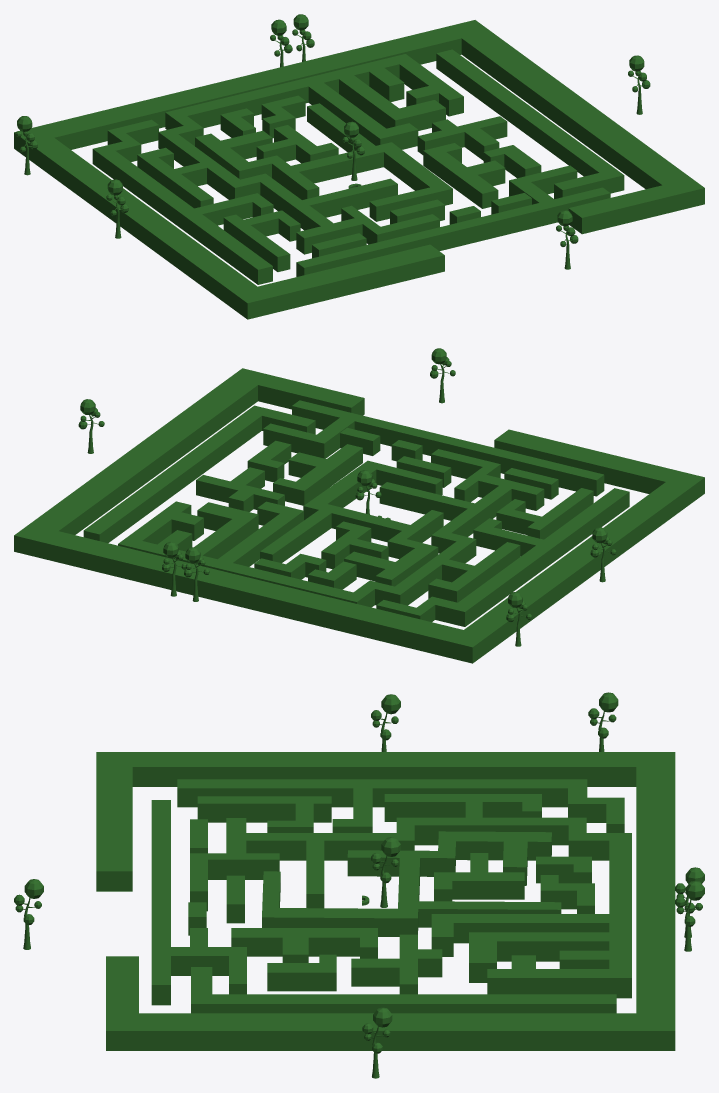
Rendered from maze__bench.glb.
The picture shows the model from 3 angles, top to bottom: view 1: azimuth 30°, elevation 25°; view 2: azimuth 150°, elevation 25°; view 3: azimuth 270°, elevation 25°; orthographic projection. The views are drawn at different scales.
Visible parts, largest first — view 1: Hedge_maze, tree2, tree1, tree3, tree6, tree, tree4, tree5; view 2: Hedge_maze, tree3, tree2, tree5, tree1, tree4, tree6, tree; view 3: Hedge_maze, tree3, tree4, tree2, tree, tree6, tree1.
Part boxes in pixels (x1,y1,x2,y2): Hedge_maze: (14,20,704,319); tree2: (556,210,578,269); tree1: (106,179,128,238); tree3: (628,55,650,114); tree6: (15,116,37,175); tree: (342,121,364,180); tree4: (292,14,314,61); tree5: (270,19,292,67); Hedge_maze: (14,368,704,663); tree3: (78,399,104,453); tree2: (430,348,455,403); tree5: (184,547,209,601); tree1: (590,527,616,582); tree4: (162,541,186,596); tree6: (506,592,531,646); tree: (355,470,381,514); Hedge_maze: (96,752,675,1050); tree3: (362,1007,392,1078); tree4: (675,880,704,951); tree2: (14,879,43,949); tree: (371,837,400,907); tree6: (588,692,618,751); tree1: (371,694,400,751).
Size of the model in its own units: 7480 by 739 by 6661.
